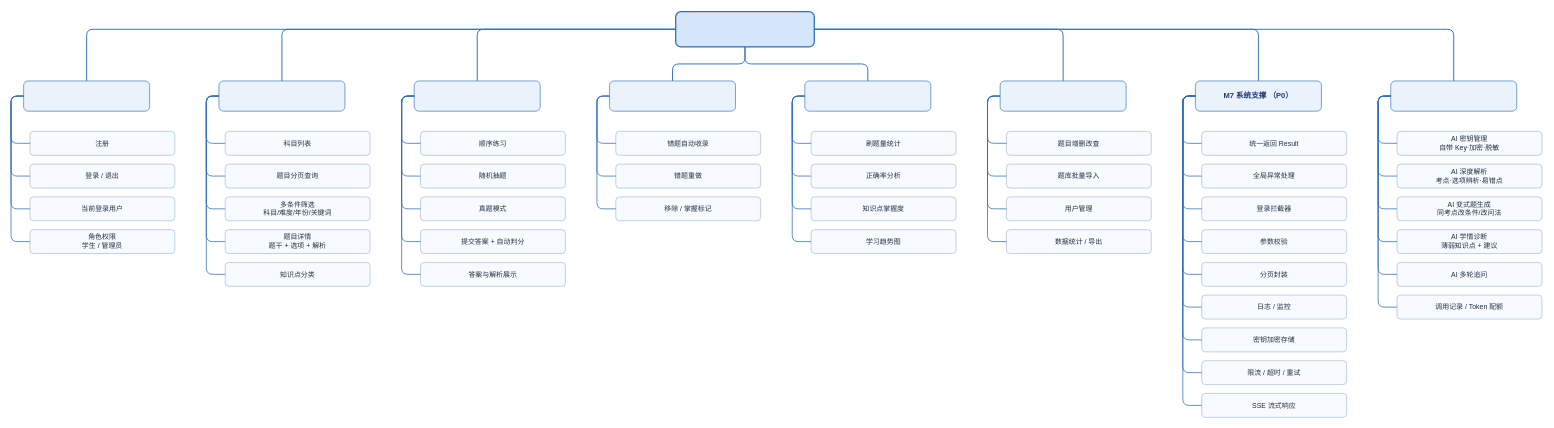
Image size: 1554x428. Some labels were removed from this diagram. The centre of each missing label's shape, as x and y in pixels:
408 刷题软件: the point at 745,29
M1 用户与登录 （P0）: the point at 86,95
M2 题库查询 （P0）: the point at 281,95
M3 做题与判卷 （P1）: the point at 477,95
M4 错题本 （P1）: the point at 672,95
M5 学习统计 （P2）: the point at 867,95
M6 管理后台 （P1）: the point at 1062,95
M8 AI 助教 （P1 加分项）: the point at 1453,95
